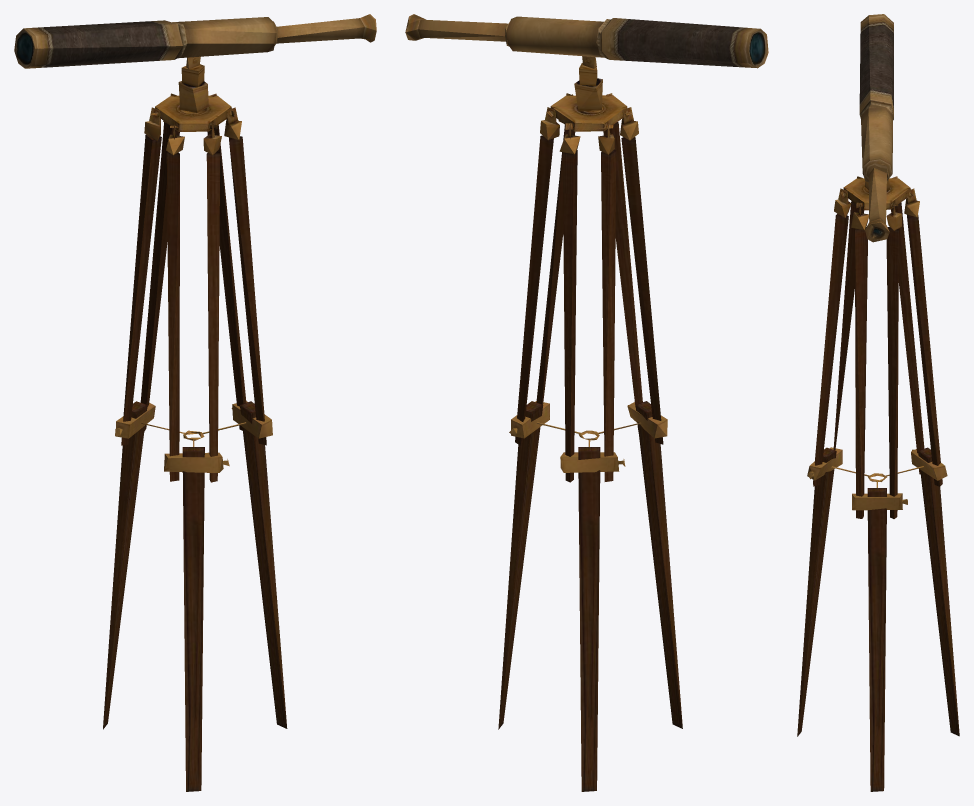
Rendered from telescope-tripod.lod1.glb.
3 views of the same model, side by side, from view 1: azimuth 30°, elevation 25°; view 2: azimuth 150°, elevation 25°; view 3: azimuth 270°, elevation 25° (orthographic). The views are drawn at different scales.
Parts seen in each view (by area): view 1: telescope-tripod; view 2: telescope-tripod; view 3: telescope-tripod.
Boxes of the visible parts, left/top/right/bottom form: telescope-tripod: left=14, top=14, right=376, bottom=791; telescope-tripod: left=405, top=14, right=768, bottom=791; telescope-tripod: left=797, top=14, right=959, bottom=791.
Size of the model in its own units: 0.849 by 1.75 by 0.3867.
2 materials, 2 textured.
